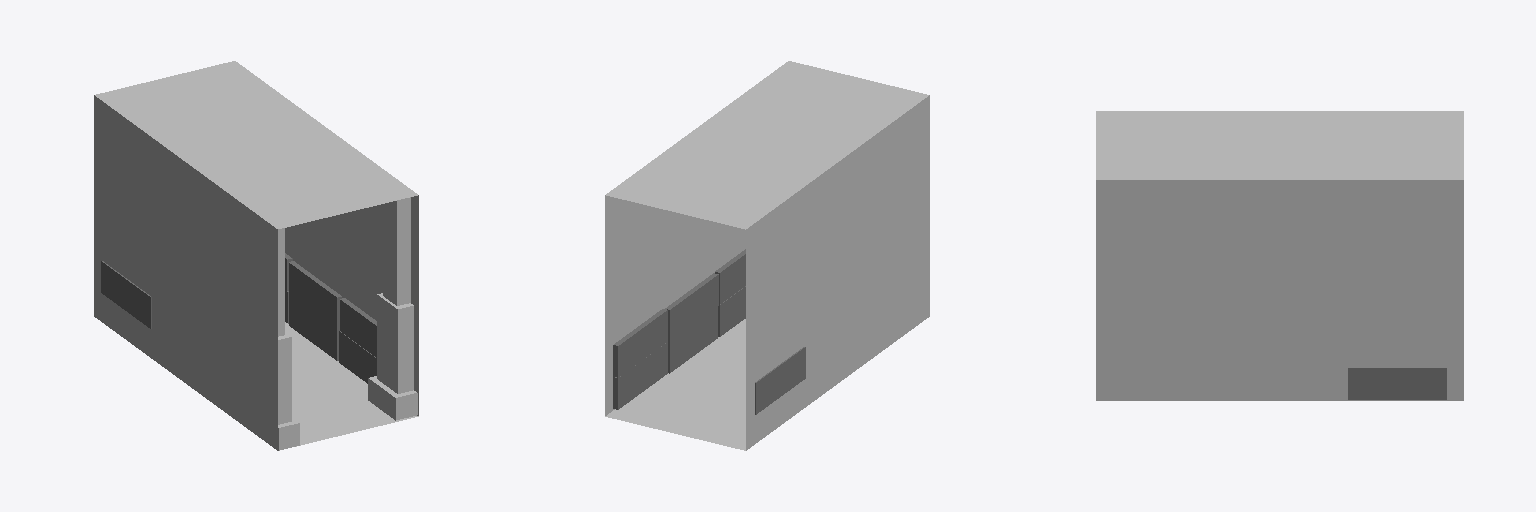
Rendered from BlenderCouloirSout.obj.
The picture shows the model from 3 angles: view 1: azimuth 30°, elevation 25°; view 2: azimuth 150°, elevation 25°; view 3: azimuth 270°, elevation 25°; orthographic projection.
Parts seen in each view (by area): view 1: Plane, Cube.002, Cube.001, Cube.013_Cube.015, Cube.008, Cube.012_Cube.014, Cube.010_Cube.012, Cube.011_Cube.013; view 2: Plane, Cube.014_Cube.016, Cube.013_Cube.015, Cube.015_Cube.017, Cube.008, Cube.012_Cube.014, Cube.010_Cube.012, Cube.011_Cube.013; view 3: Plane, Cube.015_Cube.017.
Part boxes in pixels (x1,y1,x2,y2): Plane: (94,61,418,450); Cube.002: (368,197,417,420); Cube.001: (278,228,299,450); Cube.013_Cube.015: (289,261,341,328); Cube.008: (101,261,151,328); Cube.012_Cube.014: (289,295,339,360); Cube.010_Cube.012: (340,298,376,357); Cube.011_Cube.013: (339,331,376,383); Plane: (605,61,929,450); Cube.014_Cube.016: (613,309,667,377); Cube.013_Cube.015: (665,273,718,341); Cube.015_Cube.017: (613,342,667,409); Cube.008: (755,347,805,414); Cube.012_Cube.014: (668,307,717,373); Cube.010_Cube.012: (715,249,745,304); Cube.011_Cube.013: (718,286,745,336); Plane: (1096,111,1463,400); Cube.015_Cube.017: (1348,368,1446,399).
Bounding box in the file's own units: 2.02 × 3 × 4.52.